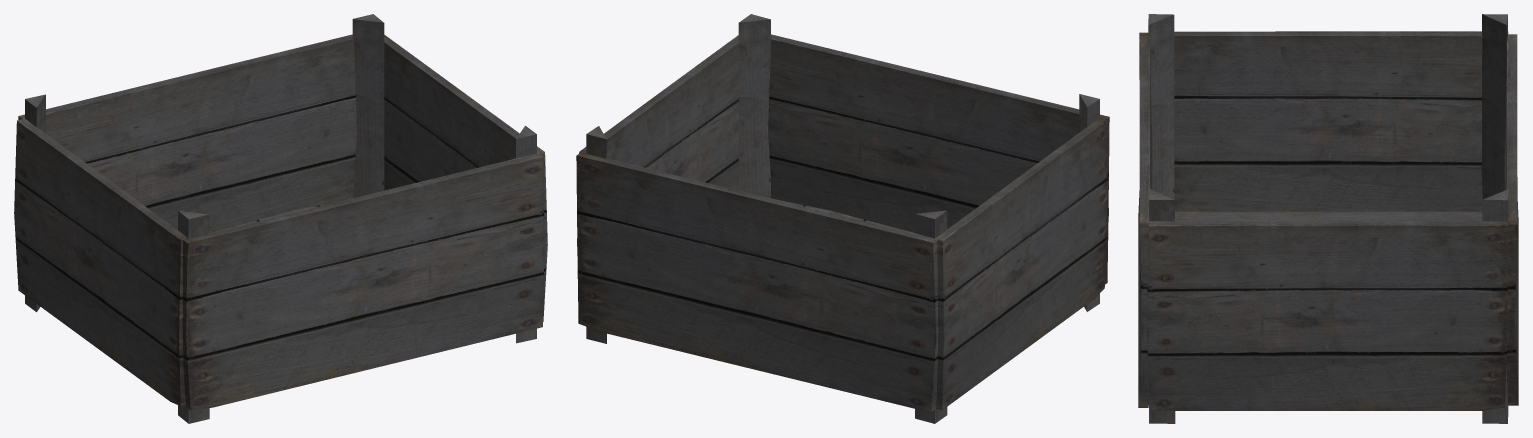
Rendered from Crate02_LOD01.fbx.
The picture shows the model from 3 angles, left to right: view 1: azimuth 30°, elevation 25°; view 2: azimuth 150°, elevation 25°; view 3: azimuth 270°, elevation 25°; orthographic projection. The views are drawn at different scales.
Visible parts, largest first — view 1: Mesh Object; view 2: Mesh Object; view 3: Mesh Object.
Part boxes in pixels (bbox=[...]): Mesh Object: bbox=[14, 14, 547, 423]; Mesh Object: bbox=[576, 14, 1109, 423]; Mesh Object: bbox=[1138, 14, 1518, 423].
Bounding box in the file's own units: 0.6381 × 0.3394 × 0.5228.
